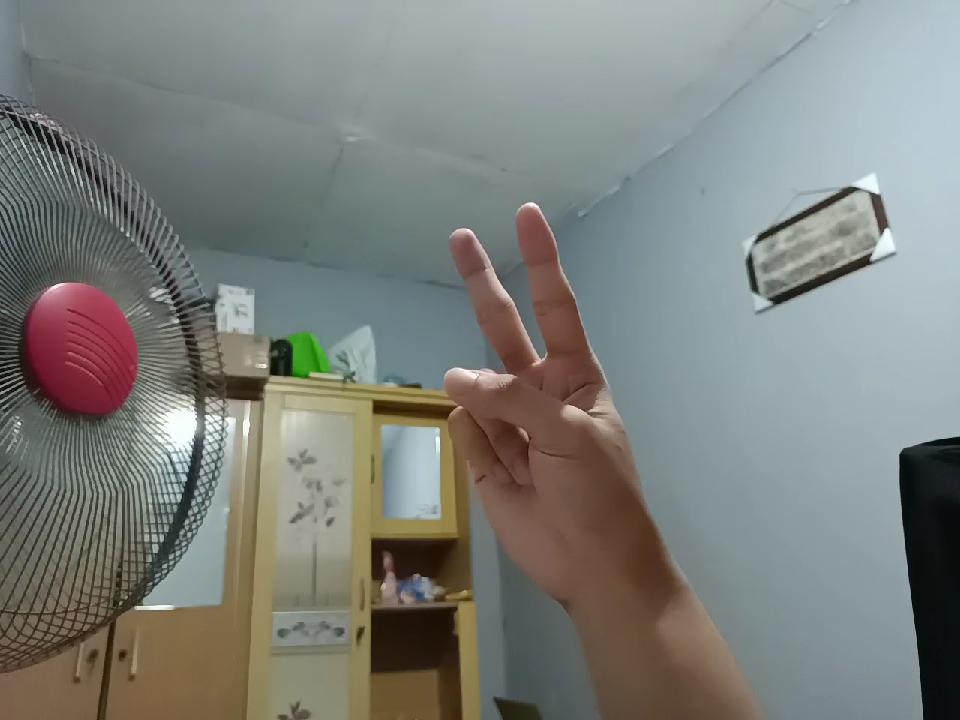scissors: (430, 185, 658, 612)
